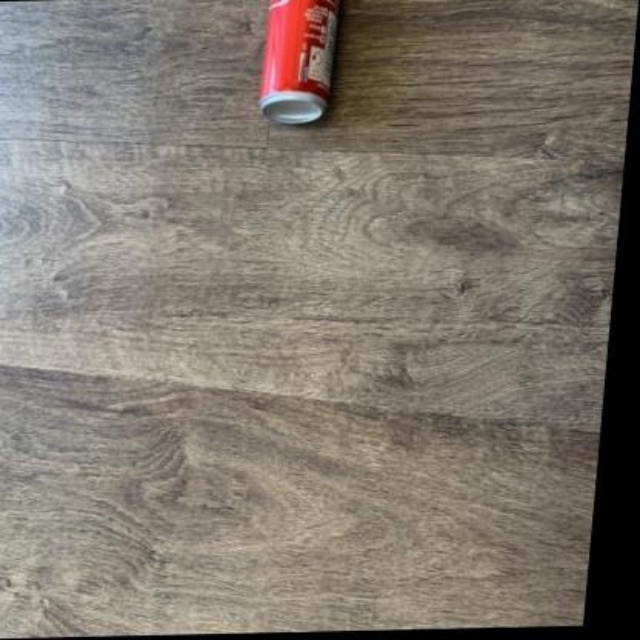trash: (260, 0, 338, 122)
